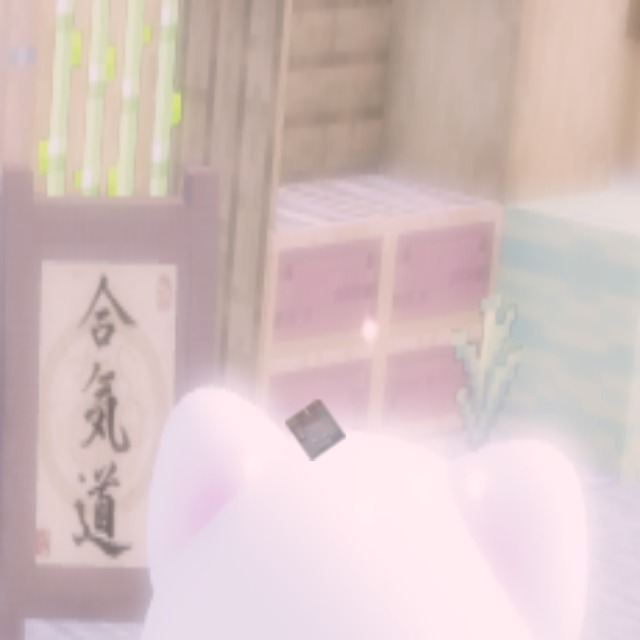urso_branco: (285, 399, 346, 461)
